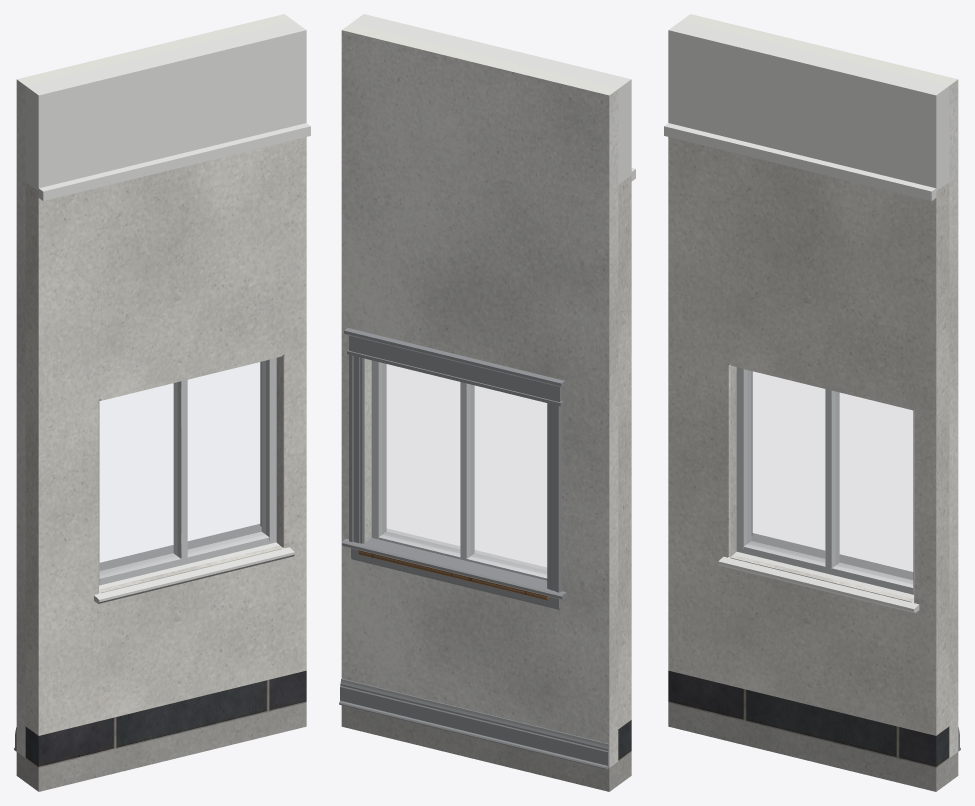
File: s_win_s_r.glb
3 views of the same model, side by side, from view 1: azimuth 30°, elevation 25°; view 2: azimuth 150°, elevation 25°; view 3: azimuth 330°, elevation 25° (orthographic).
Visible parts, largest first — view 1: s_win_s_r_render, s_win_s_r_panel_w, folha_glass, s_win_s_r_block_d, s_win_s_r_plaster, s_win_s_r_frame, s_win_s_r_concrete, s_win_s_r_coping, molduras; view 2: s_win_s_r_plaster, folha_glass, molduras, s_win_s_r_render, s_win_s_r_frame, s_win_s_r_concrete, s_win_s_r_panel_w, s_win_s_r_wood, s_win_s_r_coping; view 3: s_win_s_r_render, s_win_s_r_panel_w, folha_glass, s_win_s_r_block_d, s_win_s_r_plaster, s_win_s_r_frame, s_win_s_r_concrete, s_win_s_r_coping, molduras.
Boxes of the visible parts, x1=… form: s_win_s_r_render: x1=25, y1=137, x2=306, y2=735; s_win_s_r_panel_w: x1=25, y1=20, x2=310, y2=200; folha_glass: x1=100, y1=361, x2=265, y2=574; s_win_s_r_block_d: x1=25, y1=670, x2=306, y2=767; s_win_s_r_plaster: x1=16, y1=14, x2=292, y2=757; s_win_s_r_frame: x1=99, y1=357, x2=276, y2=585; s_win_s_r_concrete: x1=16, y1=702, x2=306, y2=791; s_win_s_r_coping: x1=94, y1=542, x2=294, y2=603; molduras: x1=14, y1=361, x2=261, y2=751; s_win_s_r_plaster: x1=341, y1=23, x2=618, y2=767; folha_glass: x1=383, y1=364, x2=546, y2=573; molduras: x1=339, y1=328, x2=609, y2=769; s_win_s_r_render: x1=618, y1=175, x2=631, y2=728; s_win_s_r_frame: x1=371, y1=360, x2=547, y2=580; s_win_s_r_concrete: x1=341, y1=705, x2=631, y2=791; s_win_s_r_panel_w: x1=351, y1=14, x2=635, y2=184; s_win_s_r_wood: x1=358, y1=550, x2=549, y2=600; s_win_s_r_coping: x1=386, y1=528, x2=547, y2=570; s_win_s_r_render: x1=668, y1=137, x2=949, y2=735; s_win_s_r_panel_w: x1=664, y1=20, x2=949, y2=200; folha_glass: x1=748, y1=371, x2=912, y2=583; s_win_s_r_block_d: x1=668, y1=670, x2=949, y2=767; s_win_s_r_plaster: x1=682, y1=14, x2=958, y2=757; s_win_s_r_frame: x1=736, y1=367, x2=913, y2=594; s_win_s_r_concrete: x1=668, y1=702, x2=958, y2=791; s_win_s_r_coping: x1=718, y1=552, x2=919, y2=613; molduras: x1=751, y1=371, x2=960, y2=751.
Bounding box in the file's own units: 1.75 × 4.35 × 0.36.
10 materials, 5 textured.
